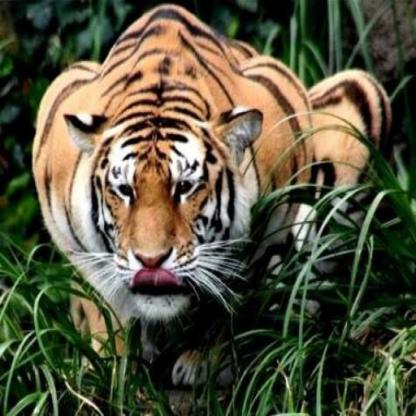Tiger: (12, 6, 406, 381)
